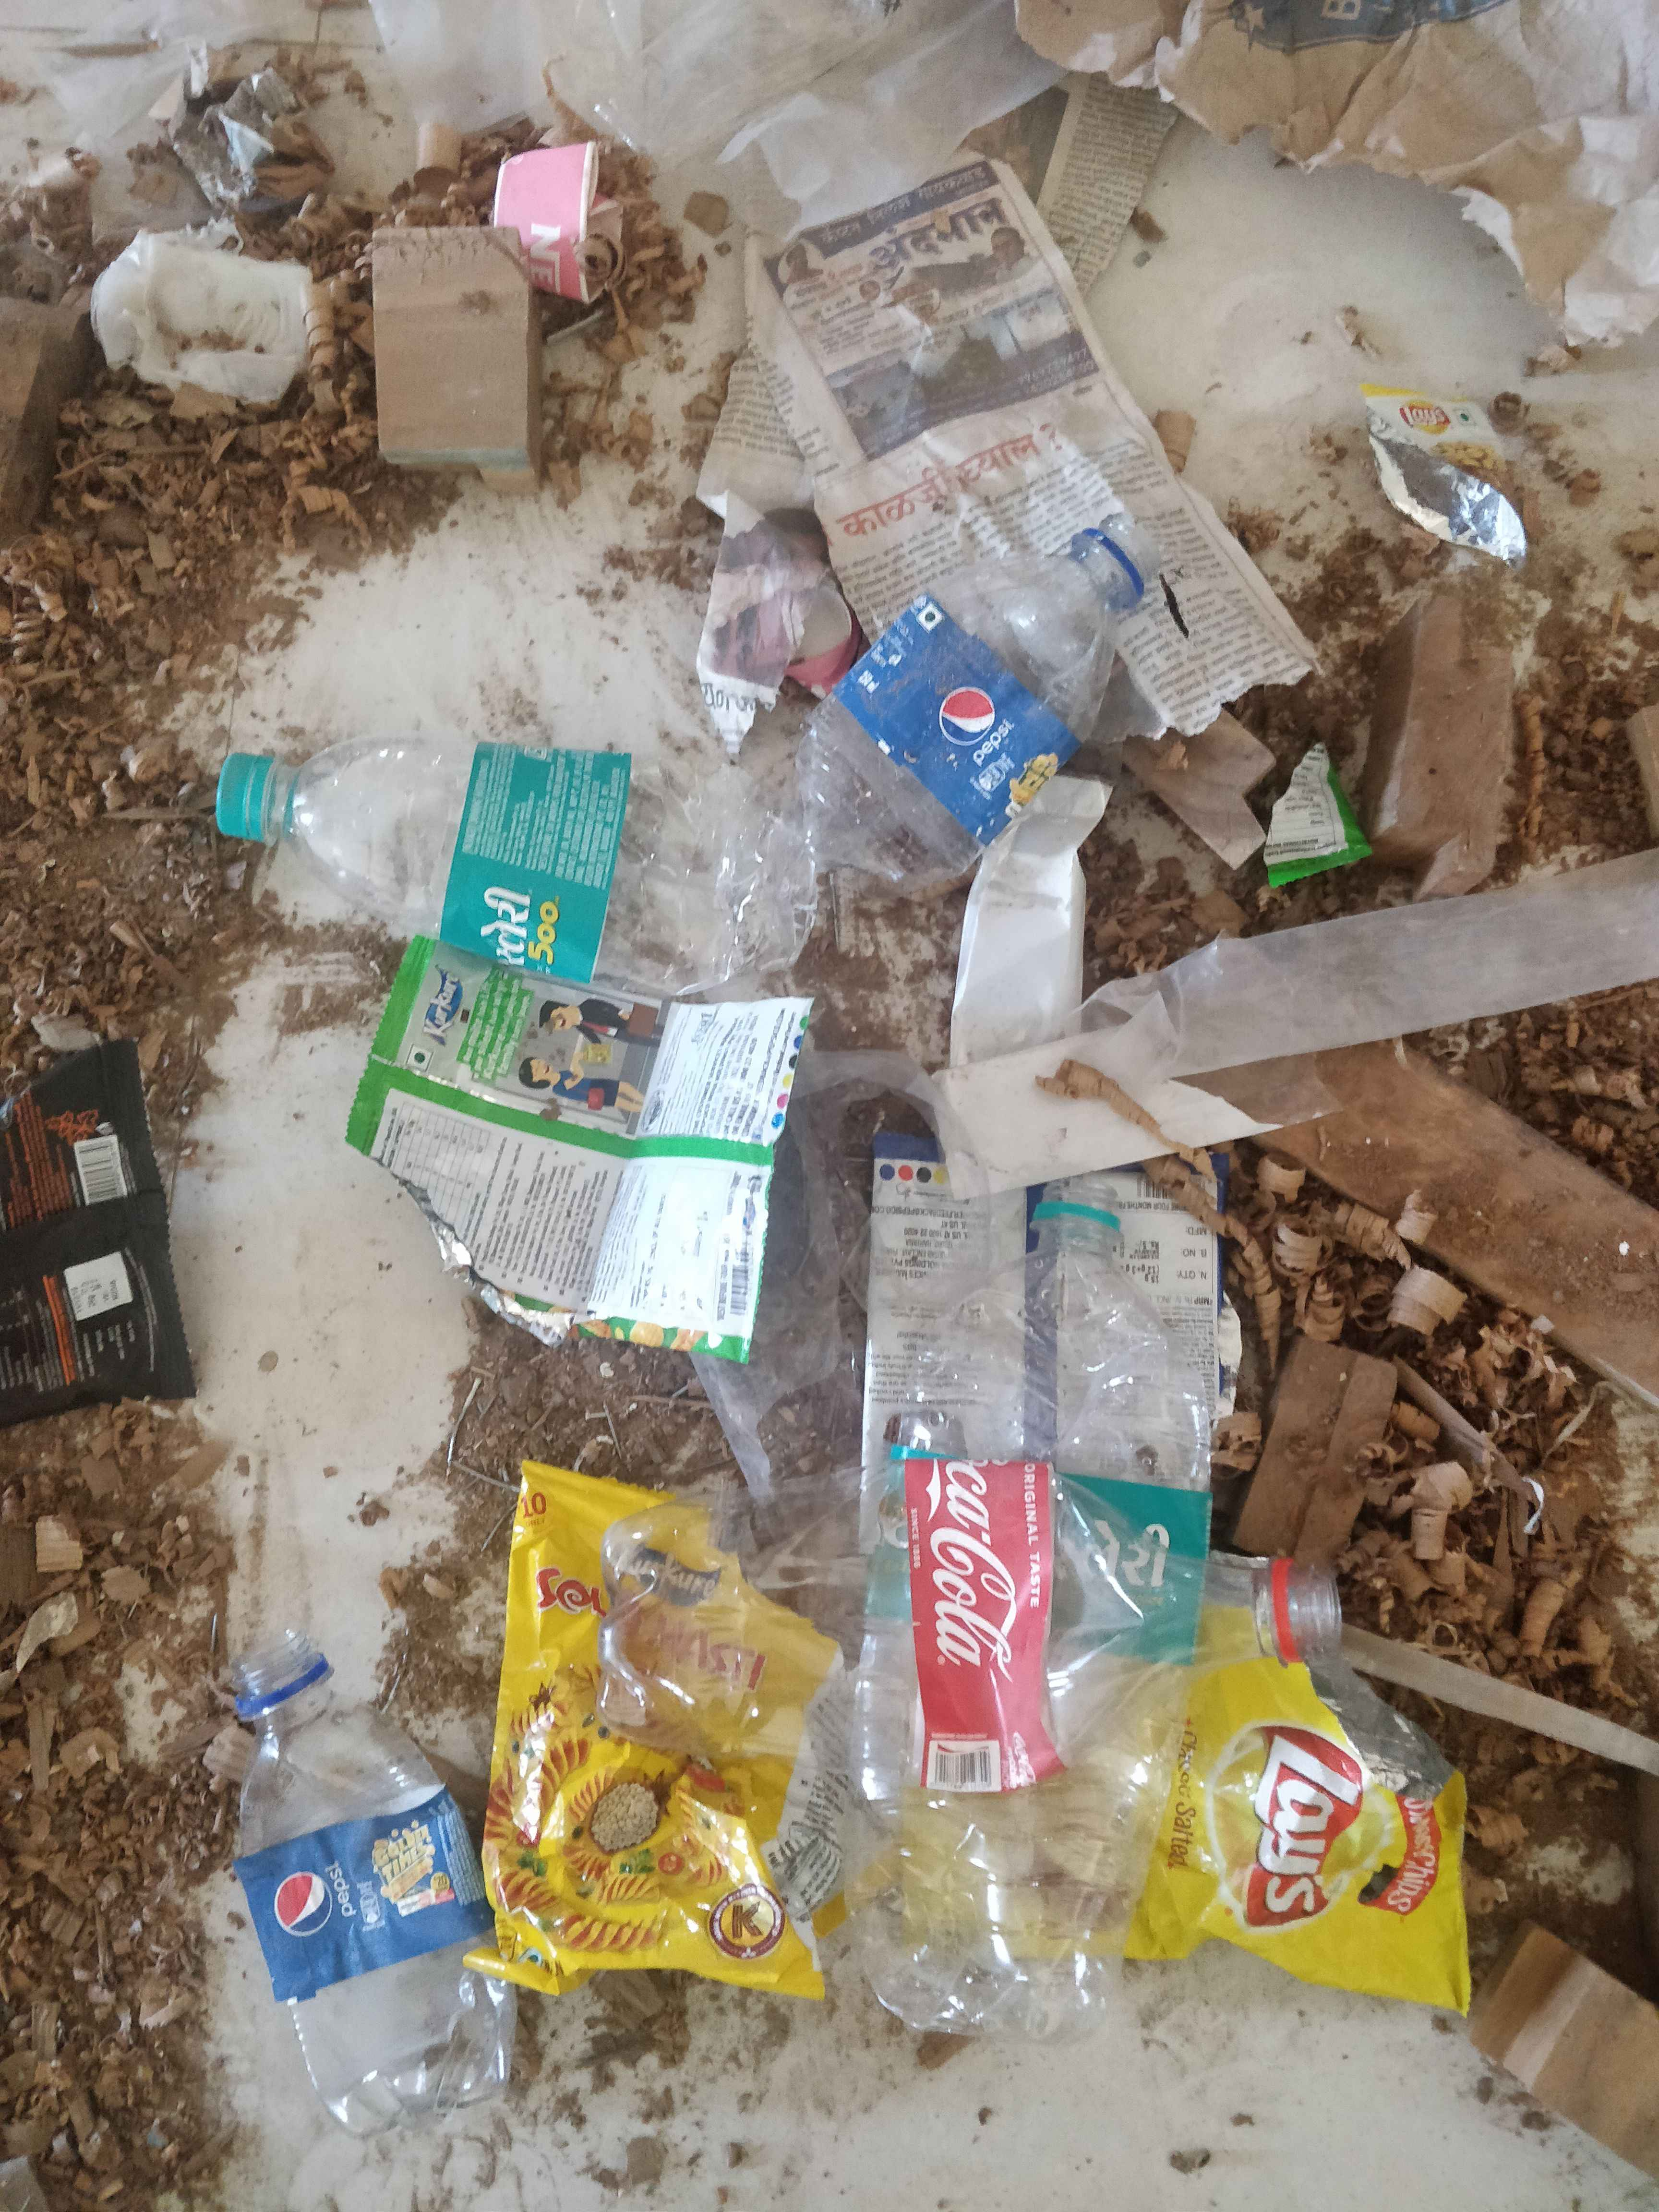Bisleri: (451, 792, 603, 988), (1063, 1477, 1216, 1632)
Coca-Cola: (936, 1461, 1060, 1777)
Lays: (1195, 1710, 1415, 1933), (1368, 394, 1495, 470)
kurkure: (592, 1526, 727, 1611), (410, 958, 472, 1047)
pepsi: (904, 644, 1046, 808), (263, 1831, 404, 1979)
